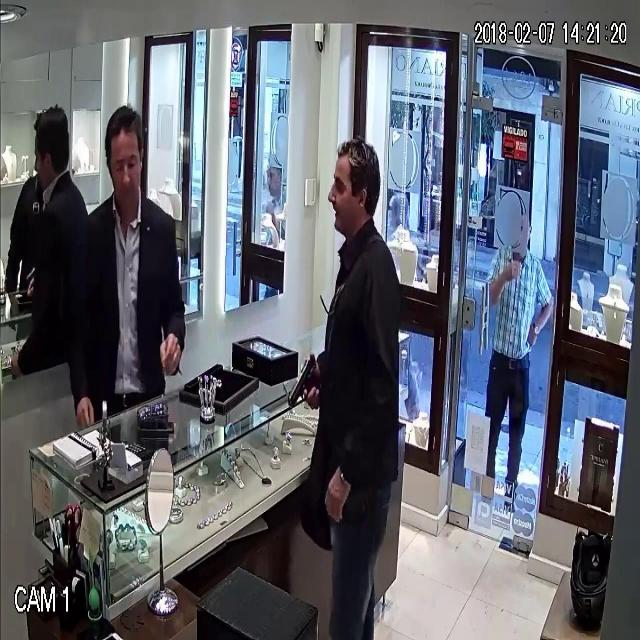gun: (279, 340, 325, 428)
